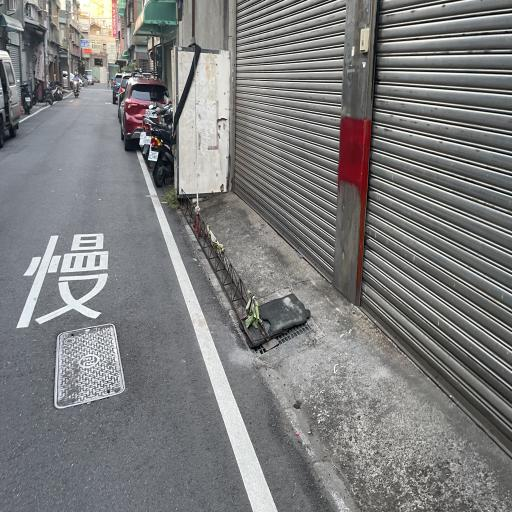car: (116, 75, 178, 155)
whiteline: (135, 143, 281, 512)
